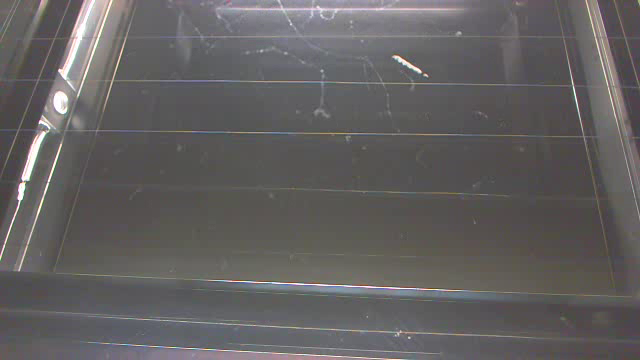alpha: (393, 54, 428, 77)
